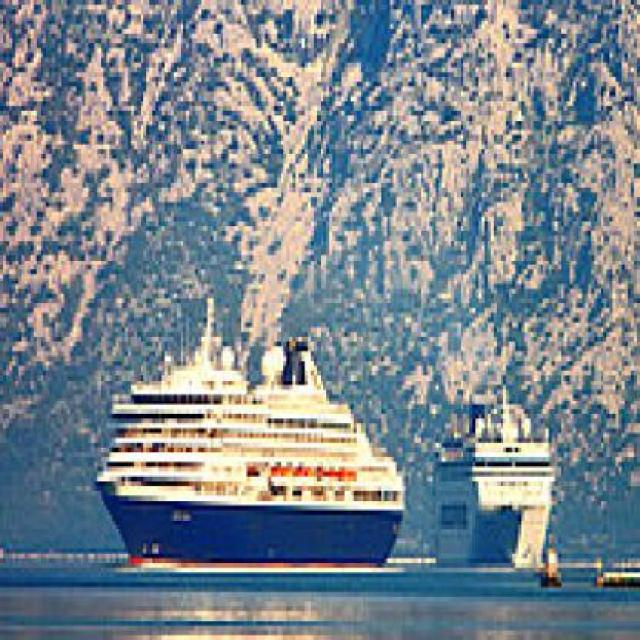cruise: (90, 280, 416, 579), (428, 377, 565, 594)
